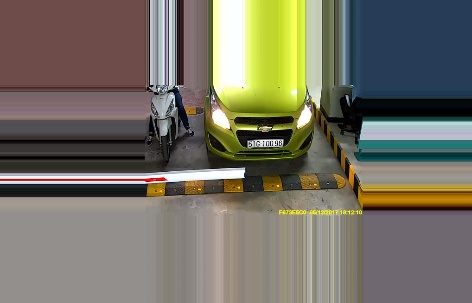plate: (242, 135, 285, 149)
